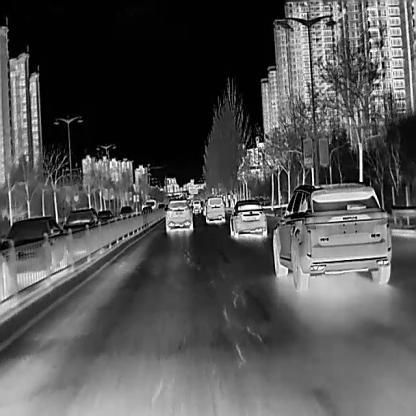car: (270, 180, 390, 292), (0, 214, 64, 270), (228, 197, 267, 238), (62, 206, 100, 244), (164, 198, 192, 233), (204, 196, 225, 223), (97, 206, 115, 230), (116, 206, 136, 221), (140, 205, 152, 217), (191, 200, 200, 212)
truck: (144, 198, 158, 210)
